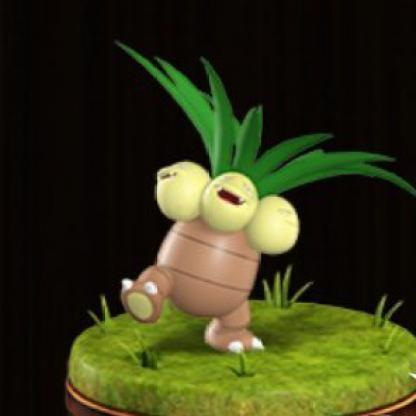Exeggutor: (97, 32, 416, 354)
